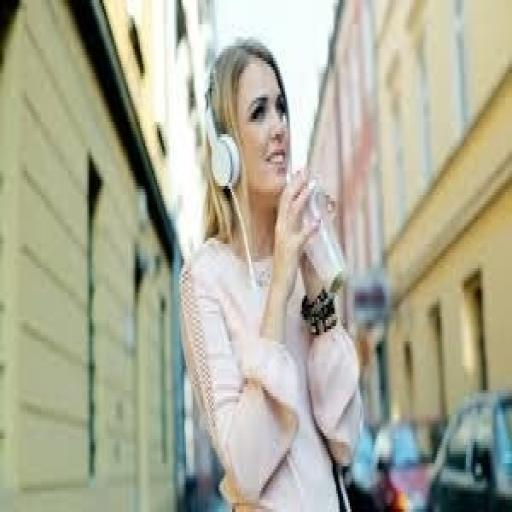listening_to_music: (178, 33, 365, 509)
